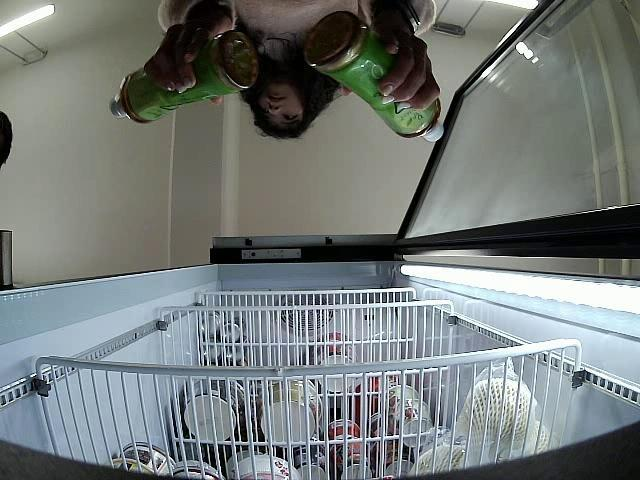19_17cha: (306, 10, 445, 145), (109, 31, 258, 126)
